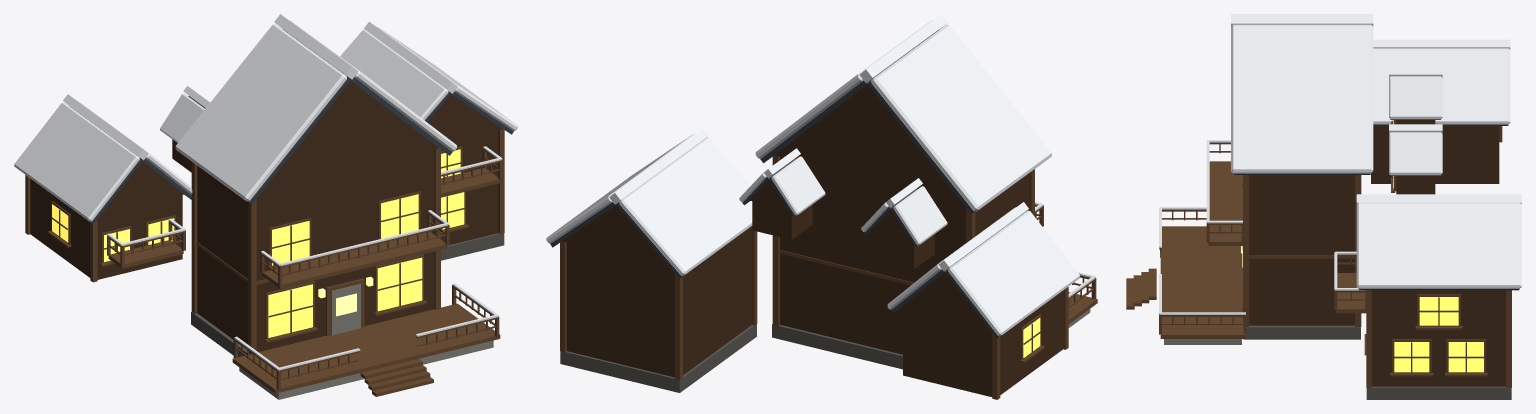
File: lodge-annex-2-adirondack.glb
The picture shows the model from 3 angles, left to right: view 1: azimuth 30°, elevation 25°; view 2: azimuth 150°, elevation 25°; view 3: azimuth 270°, elevation 25°; orthographic projection. The views are drawn at different scales.
Parts seen in each view (by area): view 1: lodge-annex-2-adirondack; view 2: lodge-annex-2-adirondack; view 3: lodge-annex-2-adirondack.
Boxes of the visible parts, <box> form: lodge-annex-2-adirondack: <box>14,14,517,399</box>; lodge-annex-2-adirondack: <box>546,14,1097,399</box>; lodge-annex-2-adirondack: <box>1126,14,1521,399</box>.
Bounding box in the file's own units: 25.07 × 15.95 × 20.28.
